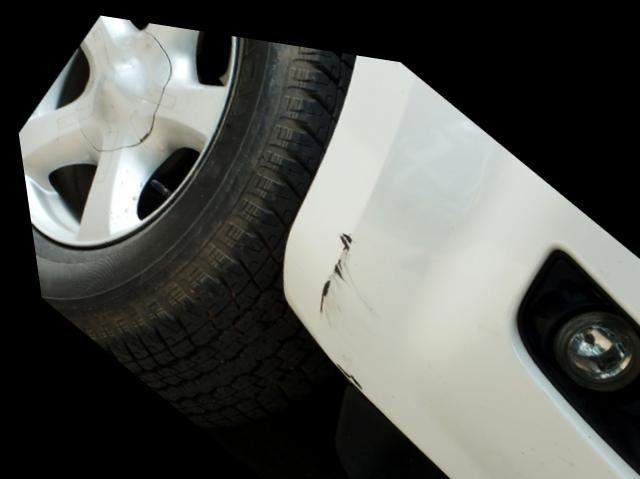scratch: (304, 219, 365, 317)
